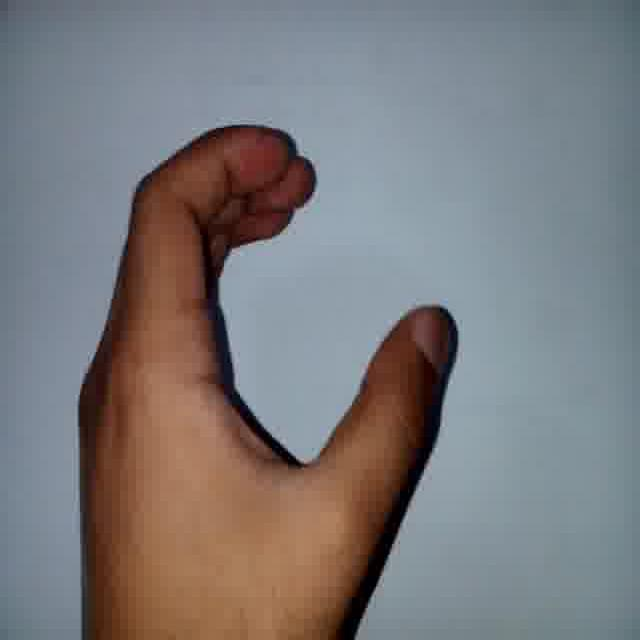Alphabet-C: (59, 117, 465, 624)
